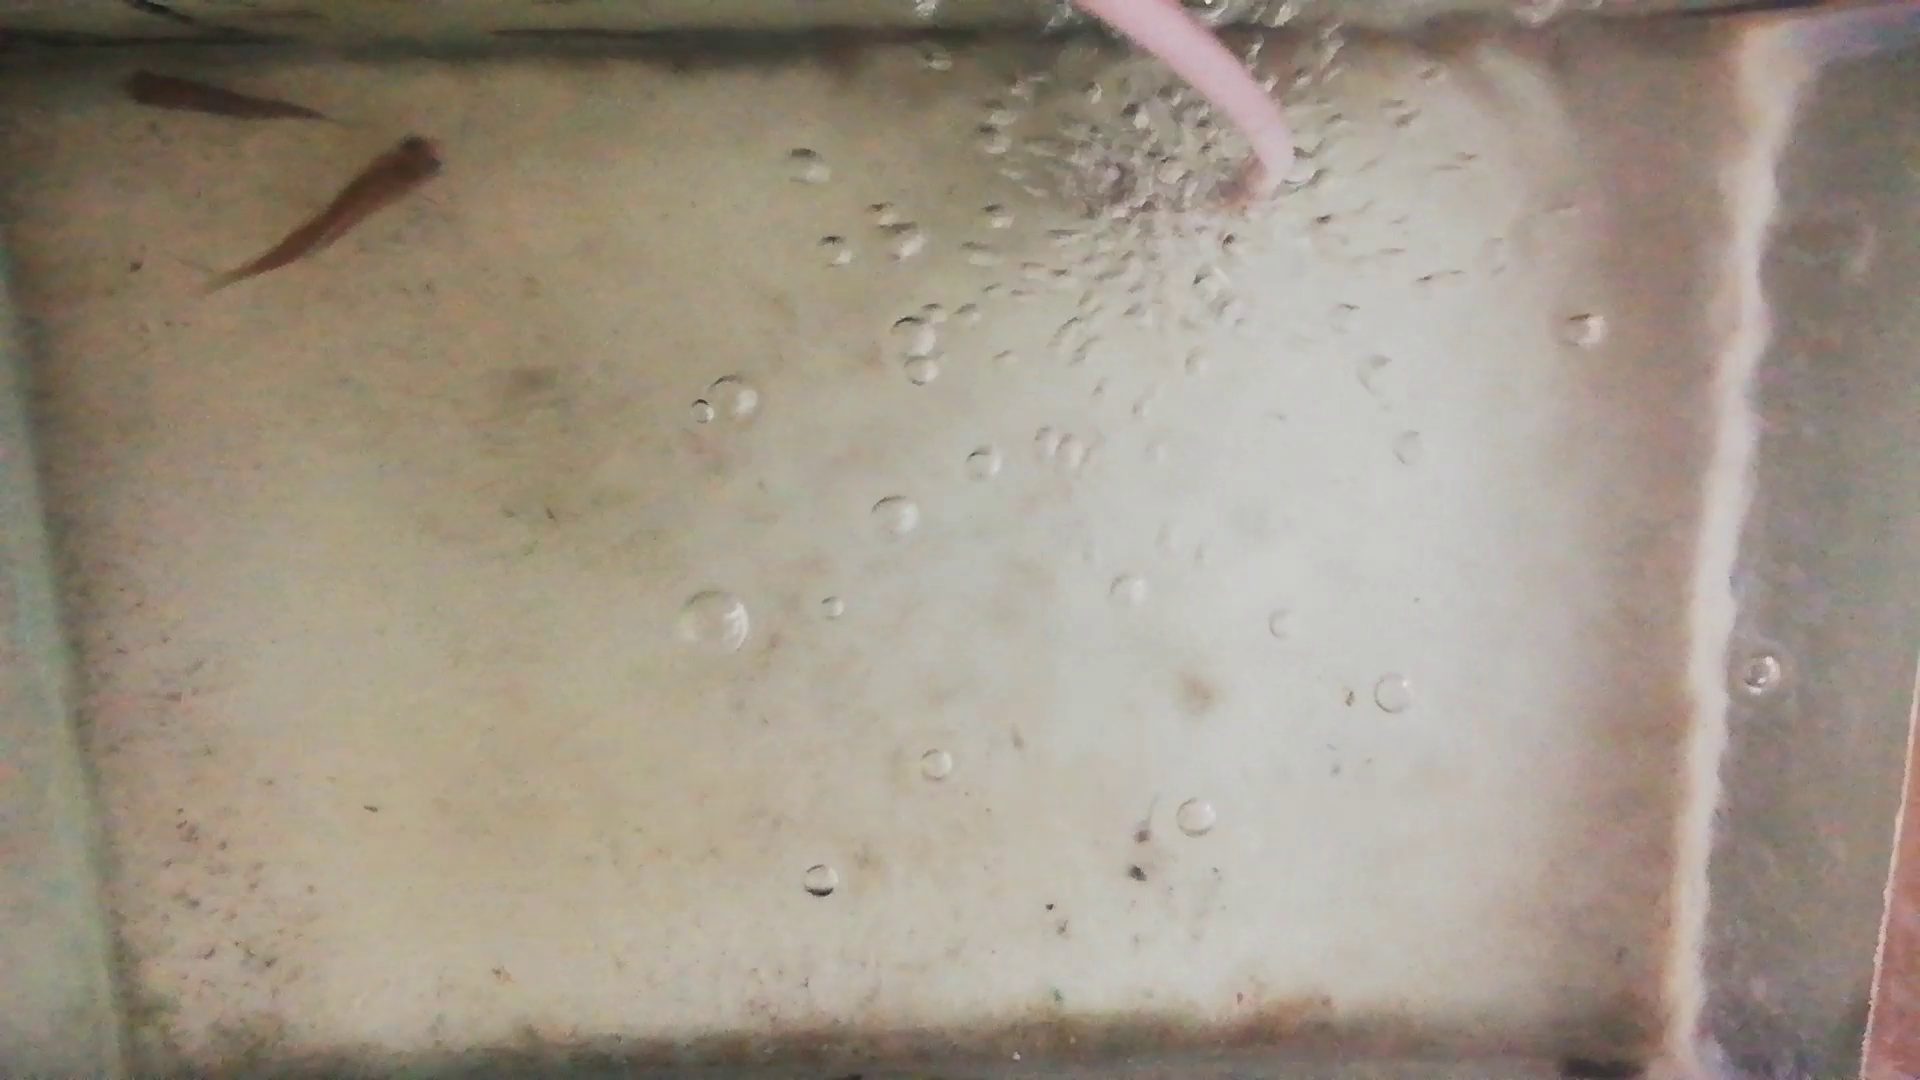fish: (233, 135, 451, 280), (116, 69, 319, 123)
